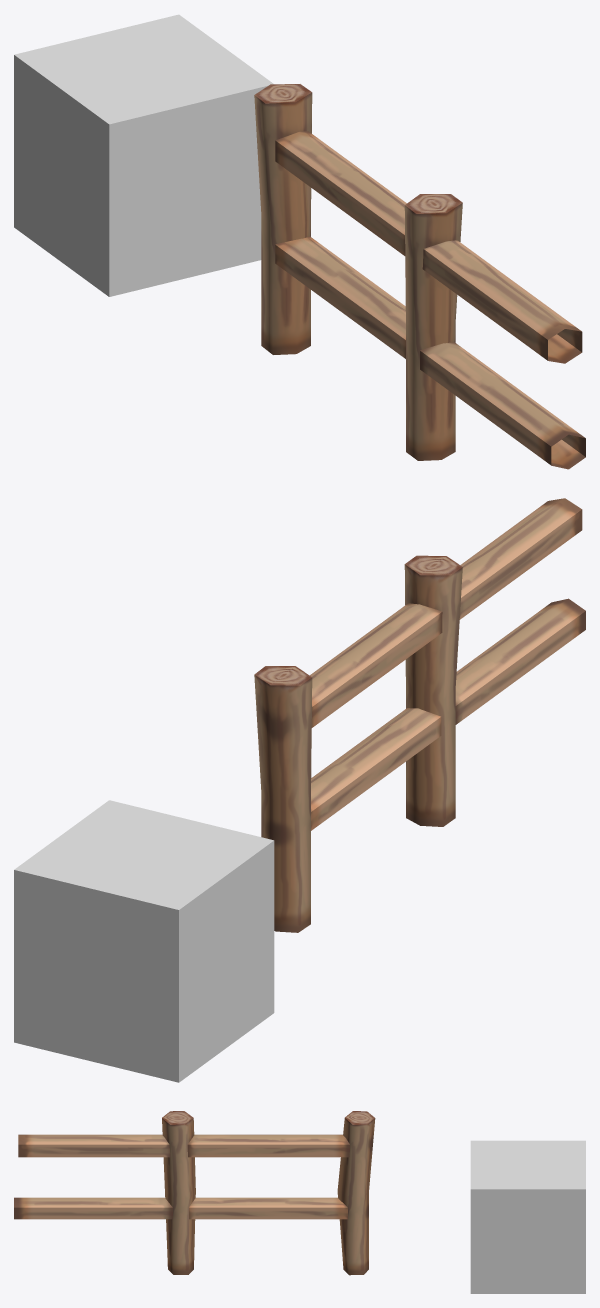
File: FencePiece.glb
The picture shows the model from 3 angles, top to bottom: view 1: azimuth 30°, elevation 25°; view 2: azimuth 150°, elevation 25°; view 3: azimuth 270°, elevation 25°; orthographic projection. The views are drawn at different scales.
Parts seen in each view (by area): view 1: Cube-noimp, FencePiece; view 2: Cube-noimp, FencePiece; view 3: FencePiece, Cube-noimp.
Boxes of the visible parts, bbox=[...] form: Cube-noimp: bbox=[14, 14, 273, 296]; FencePiece: bbox=[254, 84, 585, 469]; Cube-noimp: bbox=[14, 800, 274, 1082]; FencePiece: bbox=[254, 498, 585, 932]; FencePiece: bbox=[14, 1111, 375, 1275]; Cube-noimp: bbox=[470, 1140, 585, 1293].
Bounding box in the file's own units: 1 × 1.45 × 4.96.
Materials: 1 (1 with a texture image).
